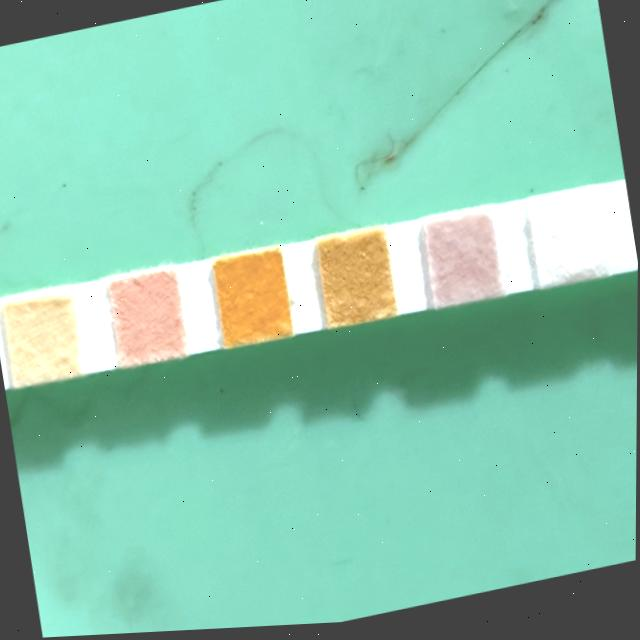Bilirubin: (529, 193, 609, 293)
Blood: (212, 251, 292, 351)
Ketone: (422, 214, 502, 314)
Protein: (3, 288, 82, 388)
SpGravity: (314, 232, 394, 332)
pH: (105, 269, 185, 369)
